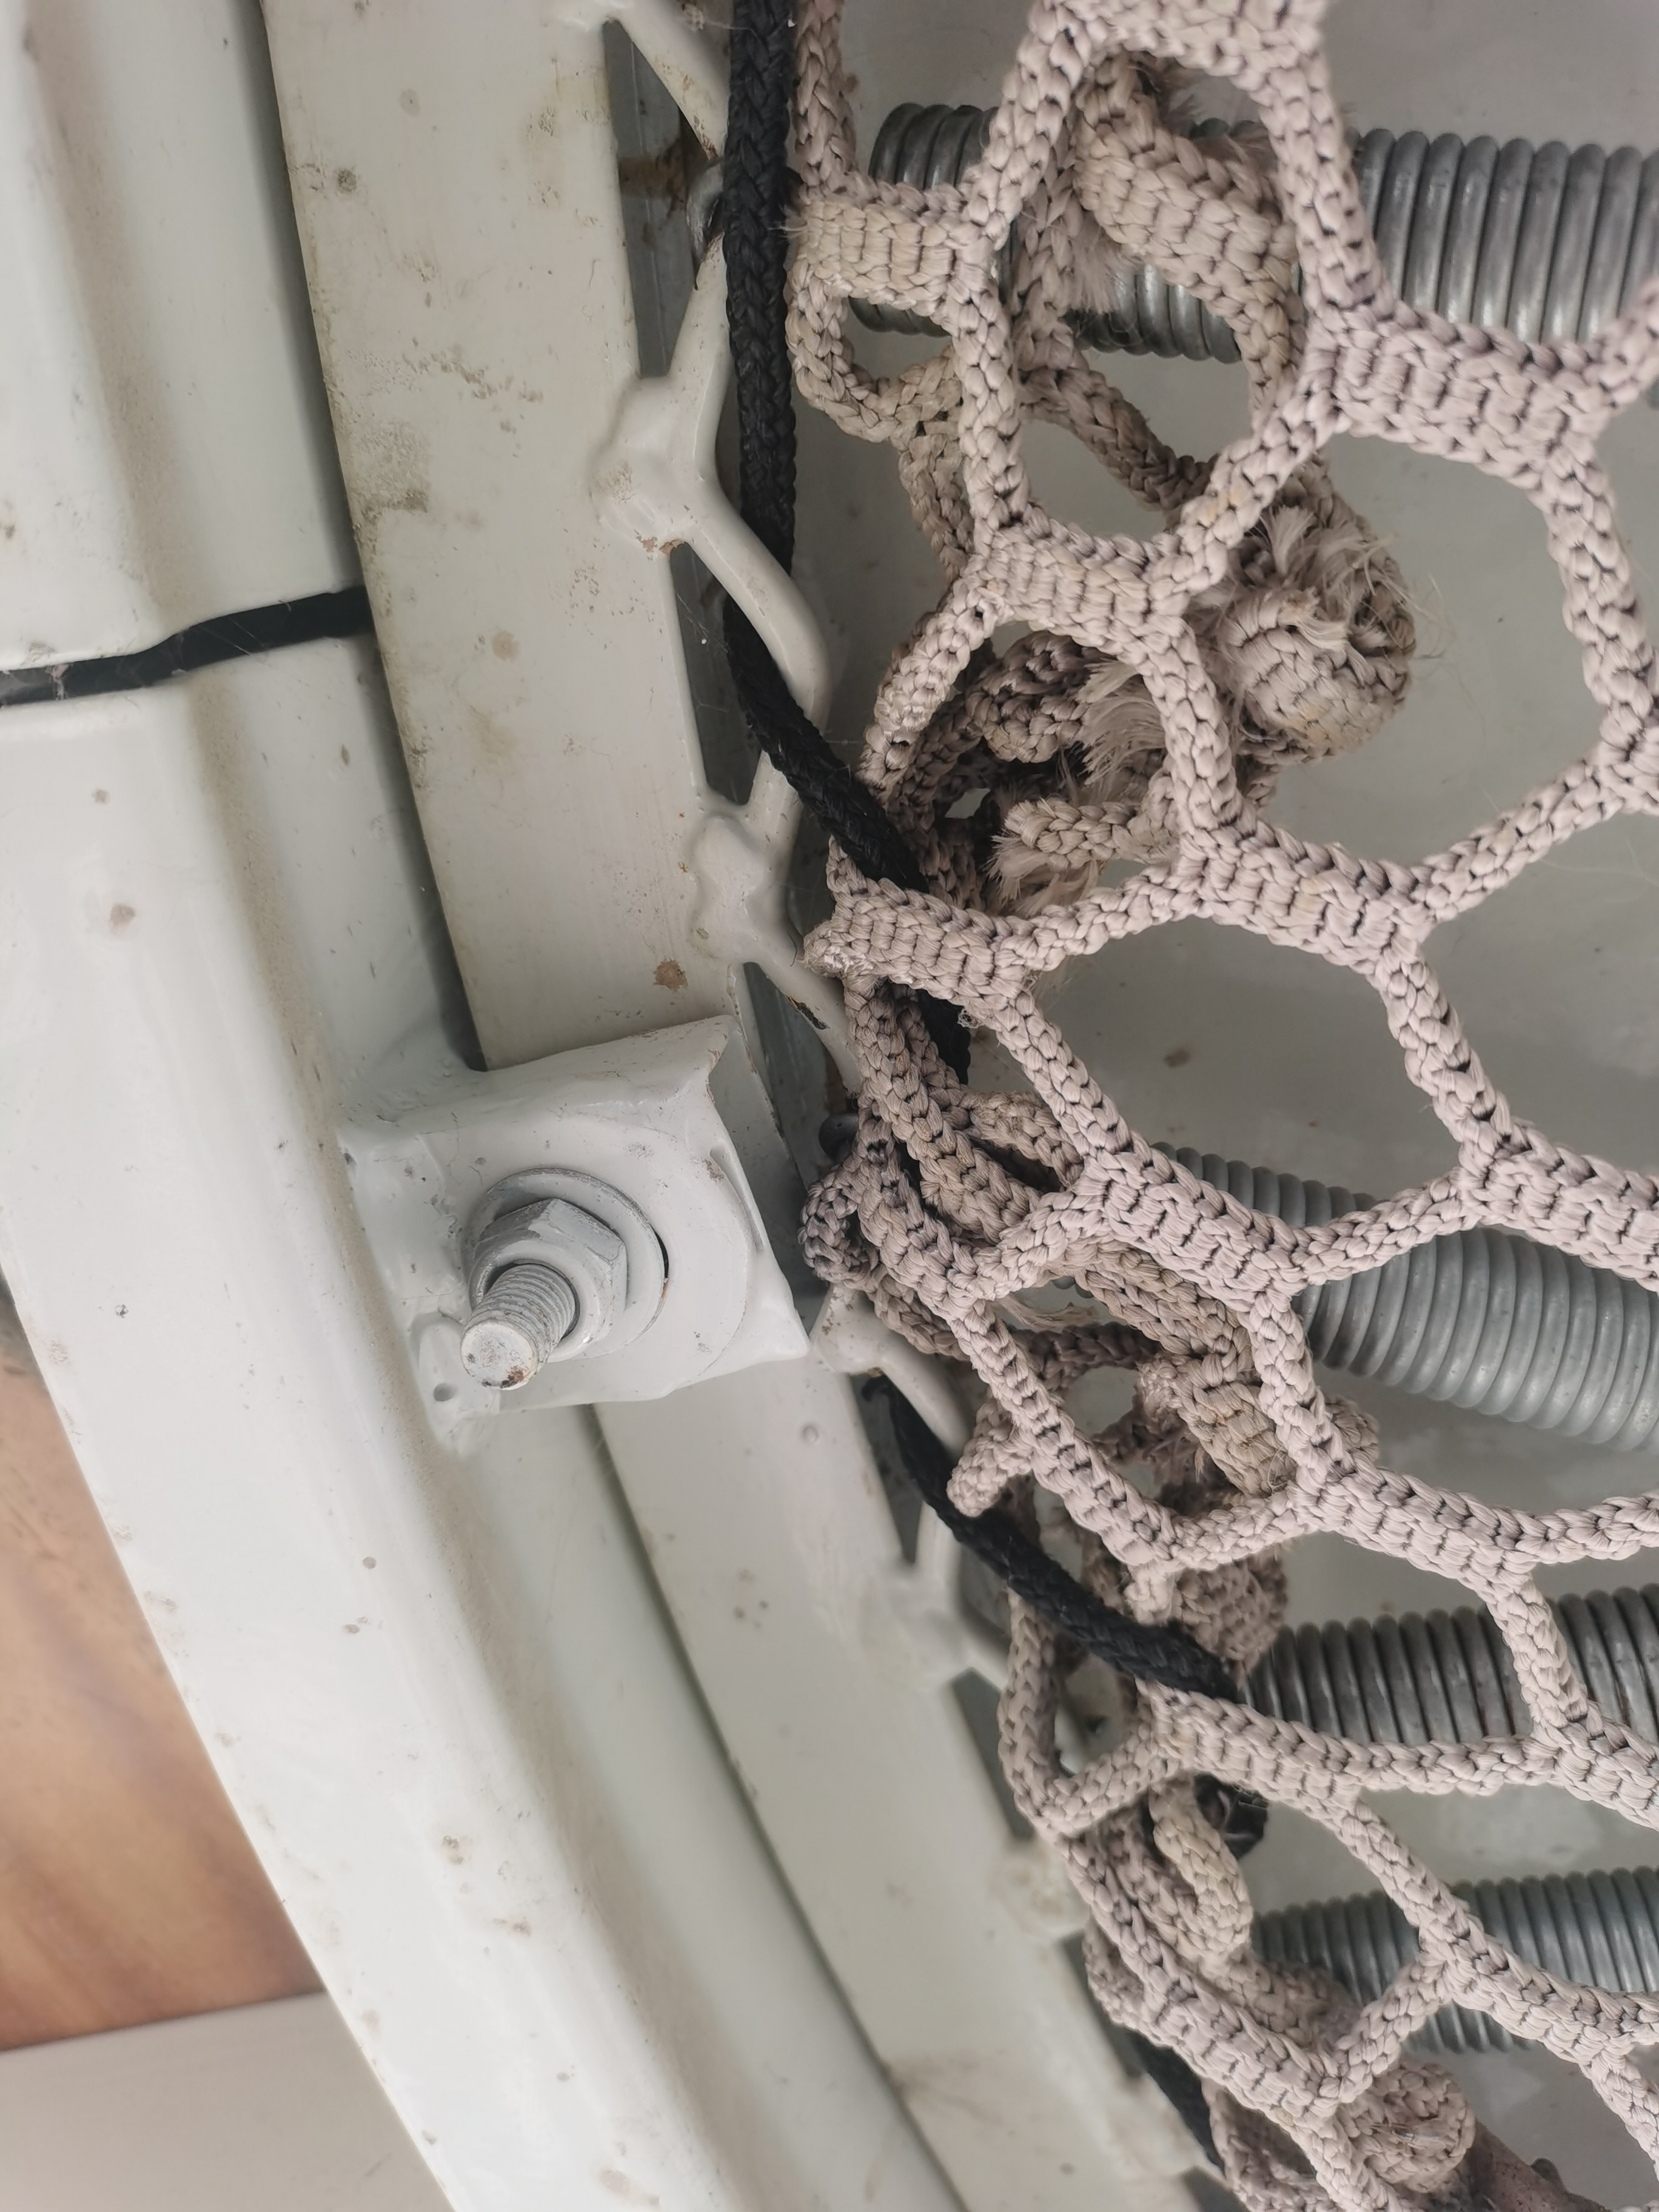bolt_b: (457, 1191, 636, 1371)
